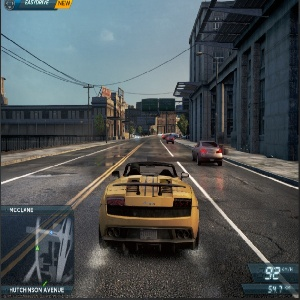ad: (115, 87, 126, 99), (101, 86, 112, 97)
building: (179, 20, 299, 148), (1, 85, 125, 141), (123, 98, 176, 134)
road sign: (141, 97, 175, 113)
tree: (177, 116, 191, 140), (94, 115, 106, 139), (127, 120, 137, 142)
vehicle: (189, 140, 225, 166), (164, 135, 176, 146)
